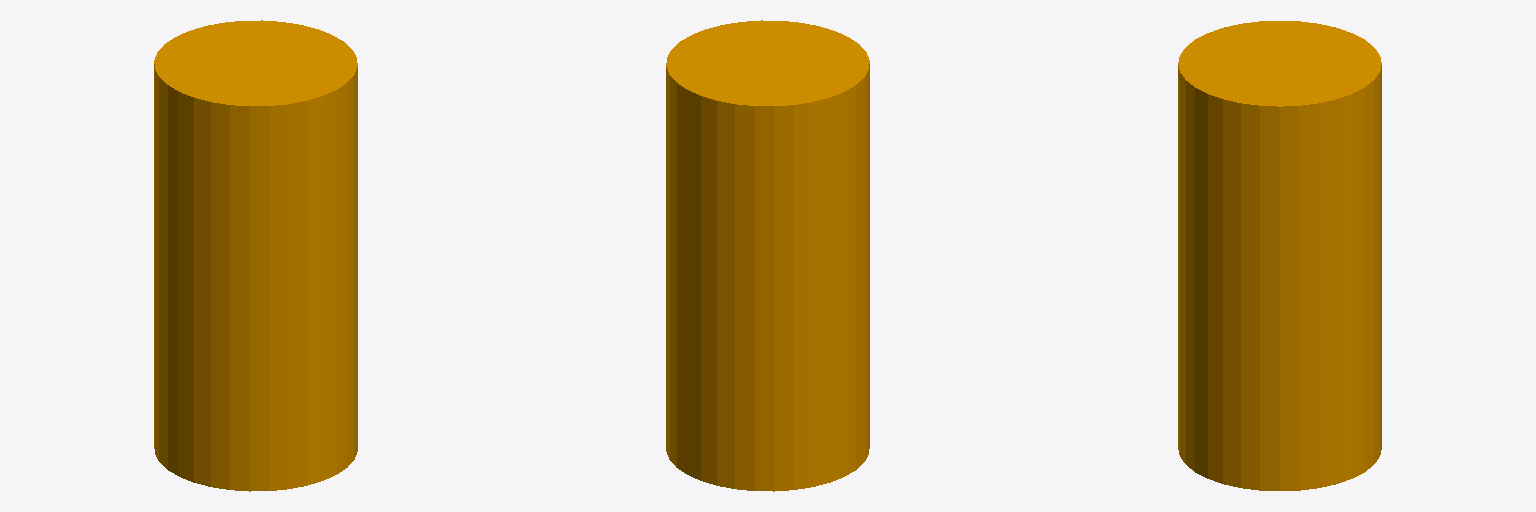
robot.urdf — ur5_base:
<robot name="ur5_base">
  <link name="base">
      <inertial>
        <origin xyz="0 0 0" rpy="0 0 0"/>
        <mass value="100.0" />
        <inertia  ixx="1.0" ixy="0.0"  ixz="0.0"  iyy="1.0"  iyz="0.0"  izz="1.0" />
      </inertial>
      <visual>
        <origin xyz="0 0 0" rpy="0 0 0"/>
        <geometry>
           <cylinder length="0.5" radius="0.12"/>
        </geometry>
      </visual>
      <collision>
        <origin xyz="0 0 0" rpy="0 0 0"/>
        <geometry>
           <cylinder length="0.5" radius="0.12"/>
        </geometry>
      </collision>
    </link>
</robot>

--- Facts derived from the render (not from the file) ---
Views: 3 orthographic renders of the robot side by side, from view 1: azimuth 30°, elevation 25°; view 2: azimuth 150°, elevation 25°; view 3: azimuth 270°, elevation 25°.
Model ur5_base with 1 links and 0 joints (none), rooted at base, posed every joint at zero.
Visible links, largest first — view 1: base; view 2: base; view 3: base.
Link boxes in pixels (left/top/right/bottom): base: left=154, top=20, right=357, bottom=491; base: left=666, top=20, right=869, bottom=491; base: left=1178, top=21, right=1381, bottom=490.
Bounding box of the posed robot: 0.24 × 0.24 × 0.5 m (x, y, z).
Geometry: primitives only (box / cylinder / sphere), no mesh files.
